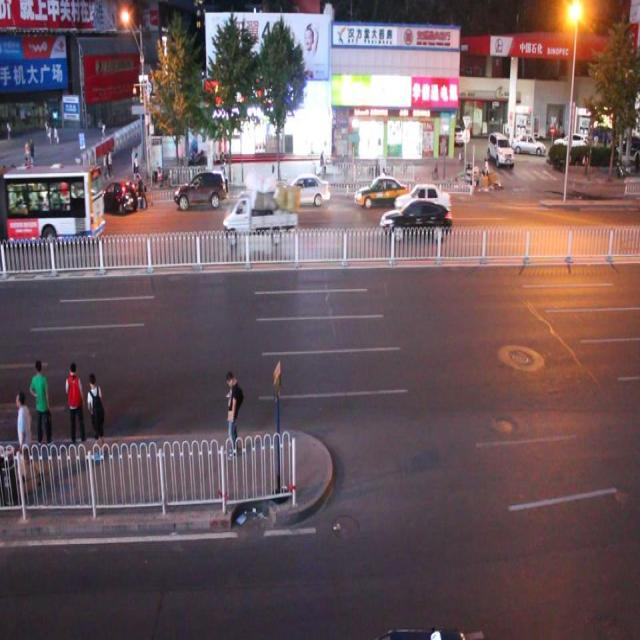bus: (222, 186, 296, 243)
car: (379, 198, 450, 242), (394, 180, 449, 215), (174, 171, 226, 208), (352, 174, 407, 208), (36, 190, 91, 223), (280, 173, 330, 206), (102, 178, 138, 214), (487, 131, 514, 168), (1, 179, 14, 214)
van: (0, 164, 104, 248)
